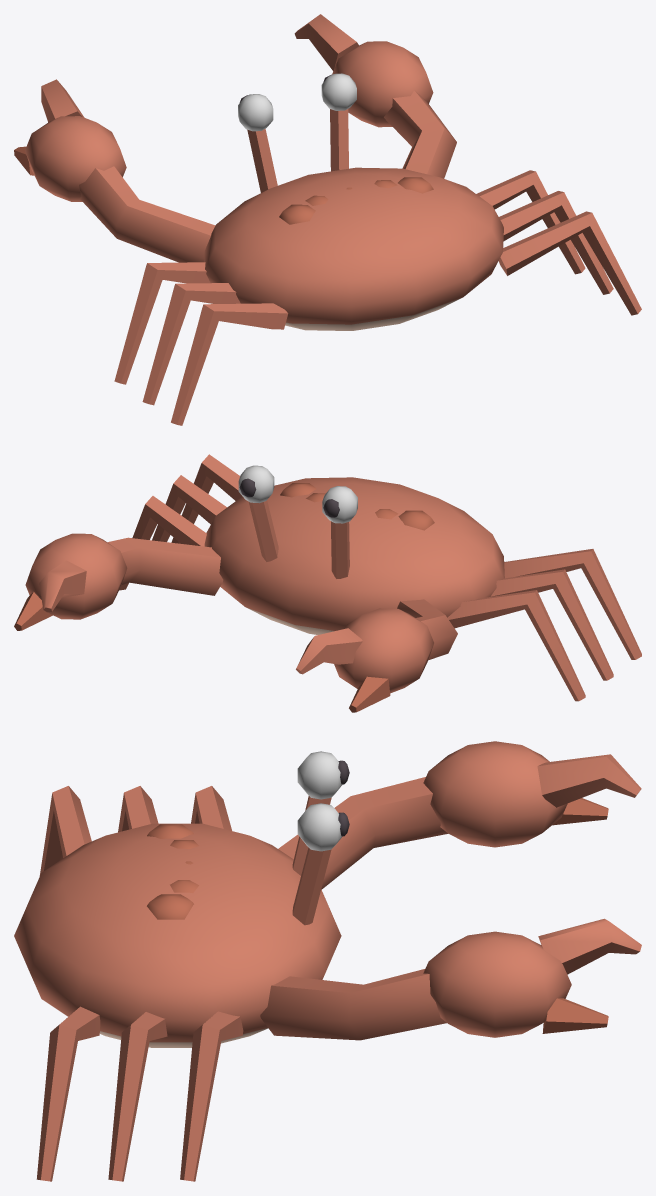
The model's file is crab.glb.
The picture shows the model from 3 angles, top to bottom: view 1: azimuth 30°, elevation 25°; view 2: azimuth 150°, elevation 25°; view 3: azimuth 270°, elevation 25°; orthographic projection. The views are drawn at different scales.
Visible parts, largest first — view 1: crab; view 2: crab; view 3: crab.
Part boxes in pixels (x1=…): crab: x1=14, y1=14, x2=641, y2=425; crab: x1=14, y1=454, x2=641, y2=712; crab: x1=14, y1=741, x2=641, y2=1181.
Size of the model in its own units: 0.6734 by 0.2824 by 0.6135.
